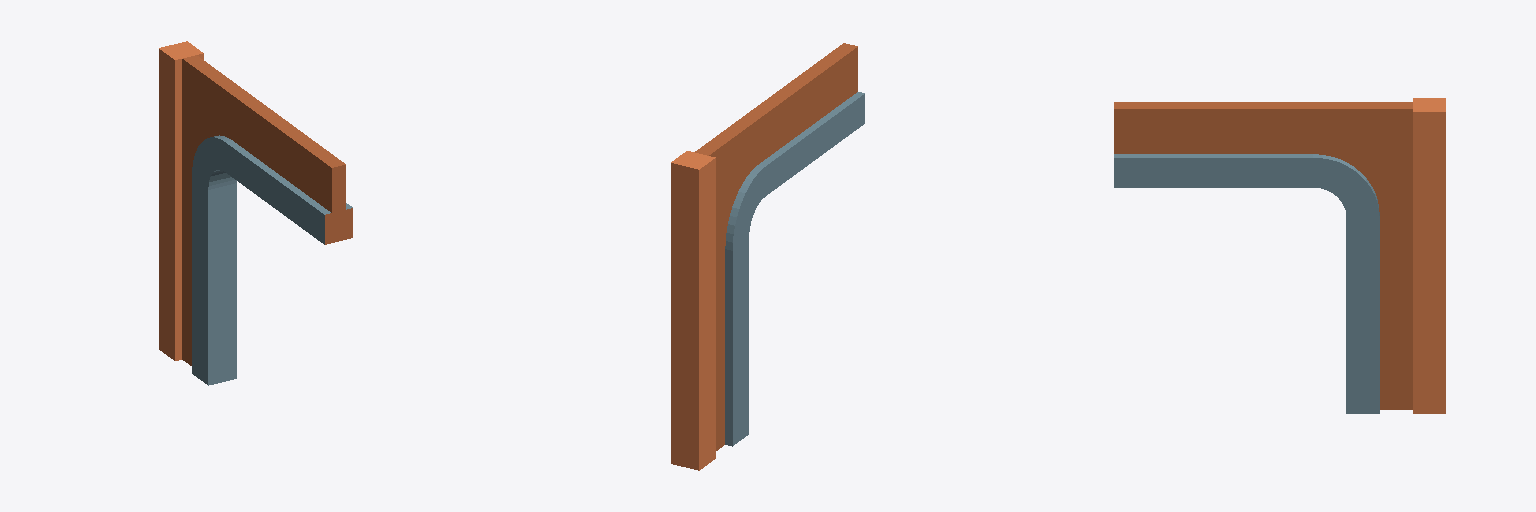
File: wallWoodDoorwaySquareWideCurved.obj
3 renders of one model, left to right at view 1: azimuth 30°, elevation 25°; view 2: azimuth 150°, elevation 25°; view 3: azimuth 270°, elevation 25°, orthographic.
Visible parts, largest first — view 1: wallWoodDoorwaySquareWideCurved; view 2: wallWoodDoorwaySquareWideCurved; view 3: wallWoodDoorwaySquareWideCurved.
Boxes of the visible parts, <box> form: wallWoodDoorwaySquareWideCurved: <box>159,41,352,385</box>; wallWoodDoorwaySquareWideCurved: <box>671,43,864,470</box>; wallWoodDoorwaySquareWideCurved: <box>1114,98,1445,413</box>.
Bounding box in the file's own units: 0.1 × 1 × 1.